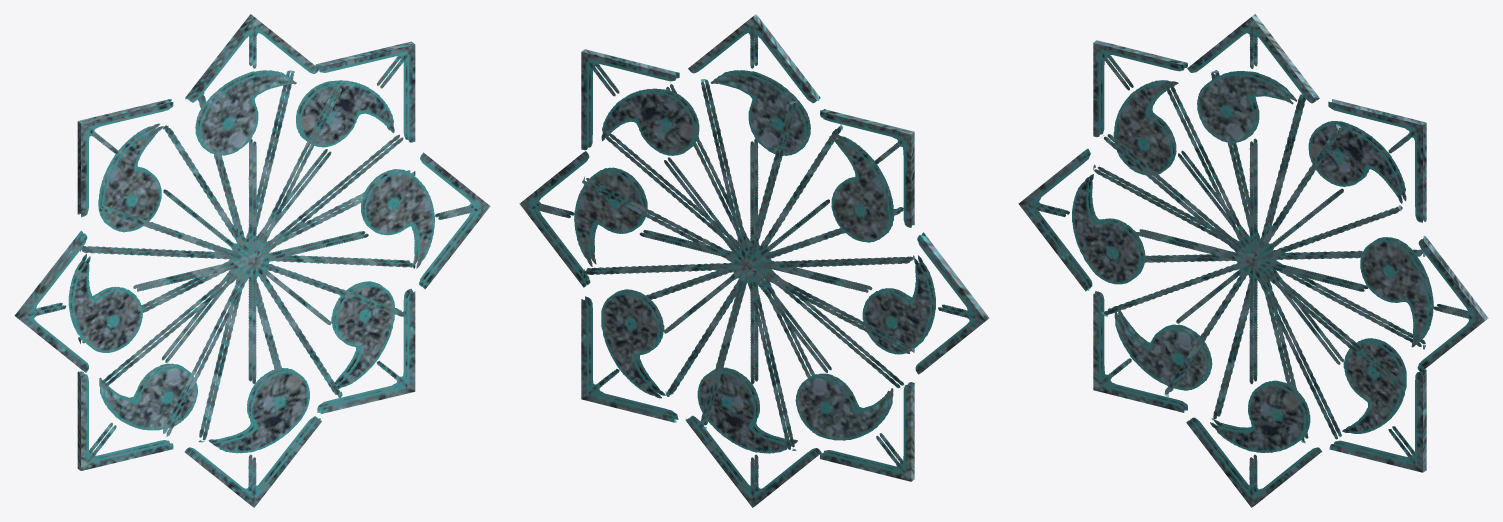
The model's file is sword_fujin_jpsword_fujin_katana.glb.
3 views of the same model, side by side, from view 1: azimuth 30°, elevation 25°; view 2: azimuth 150°, elevation 25°; view 3: azimuth 330°, elevation 25° (orthographic).
Bounding box in the file's own units: 0.1782 × 0.1781 × 0.00818.
Materials: 1 (1 with a texture image).
